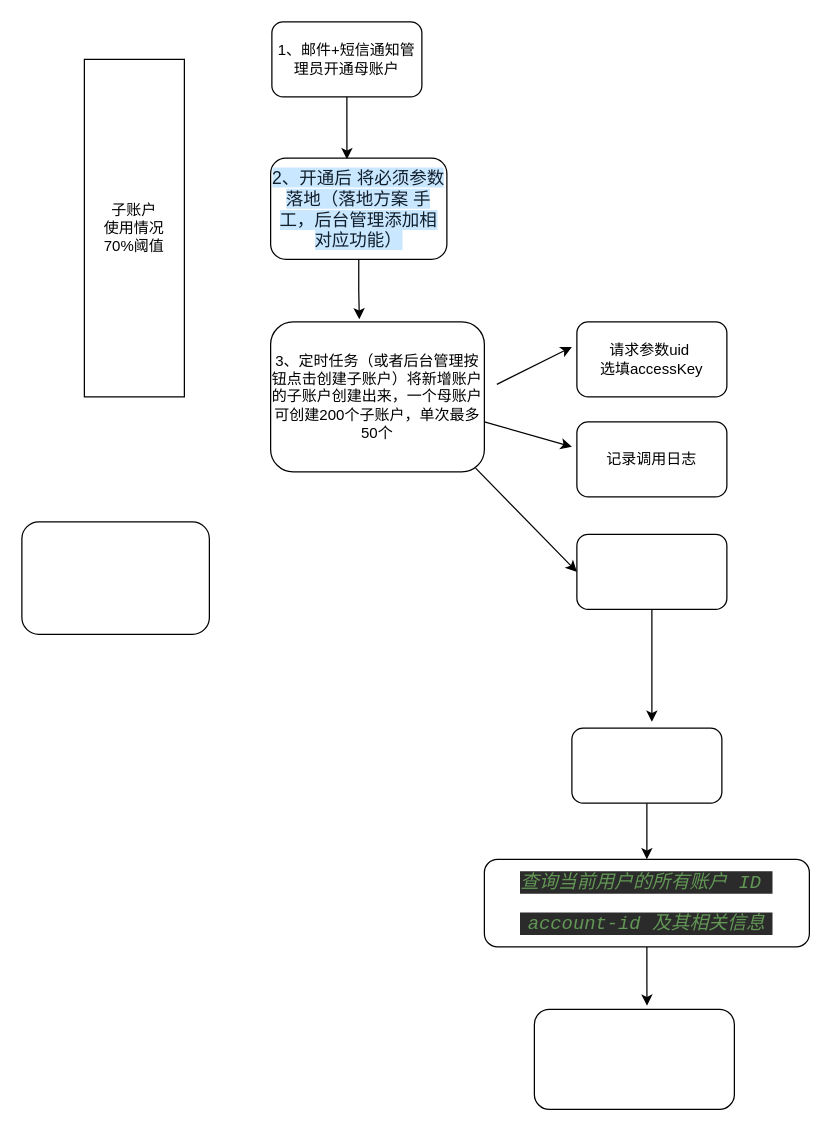
Some shapes in this 831 by 1131 pixel diagram are drawn without their labels. The shapes that lost their labels are listed below. From the top down, each one's centre as x and y in pixels, then its label:
the point at 115,577: 定时任务查询主账户余额，本地DB库有存根，如果低于阈值1W U 邮件短信通知管理员
the point at 651,571: 将母账户信息落地
the point at 646,765: 获取主账户信息
the point at 633,1058: 账户余额
